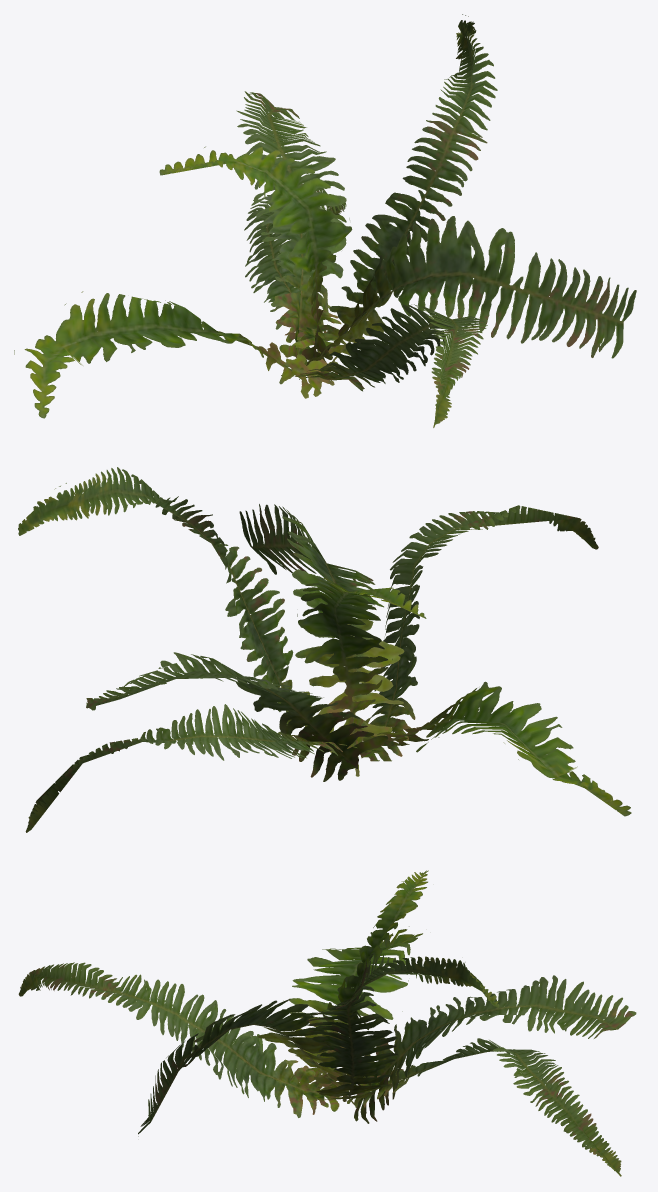
The model's file is fern.glb.
The picture shows the model from 3 angles, top to bottom: view 1: azimuth 30°, elevation 25°; view 2: azimuth 150°, elevation 25°; view 3: azimuth 270°, elevation 25°; orthographic projection. The views are drawn at different scales.
Parts seen in each view (by area): view 1: fern-a; view 2: fern-a; view 3: fern-a.
Part boxes in pixels (left/top/right/bottom): fern-a: left=14, top=14, right=636, bottom=427; fern-a: left=18, top=467, right=631, bottom=832; fern-a: left=18, top=870, right=636, bottom=1176.
Size of the model in its own units: 1.92 by 1 by 2.14.
Materials: 1 (1 with a texture image).
